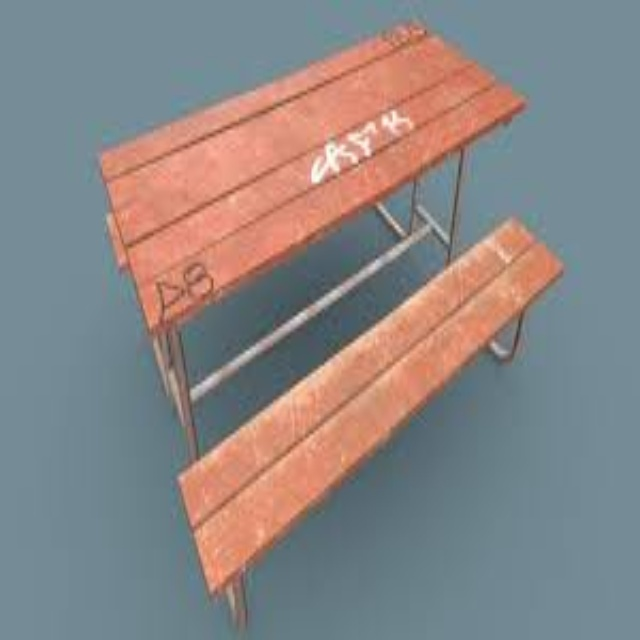obstacle: (70, 19, 563, 606)
